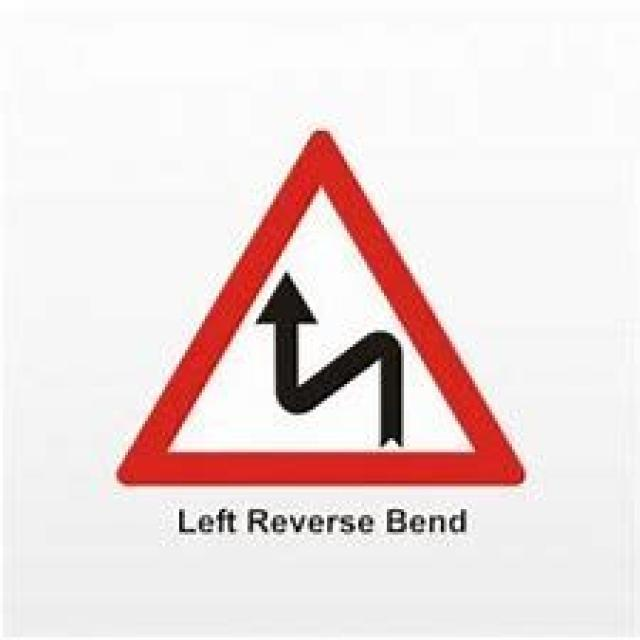left reverse bend: (110, 122, 532, 493)
